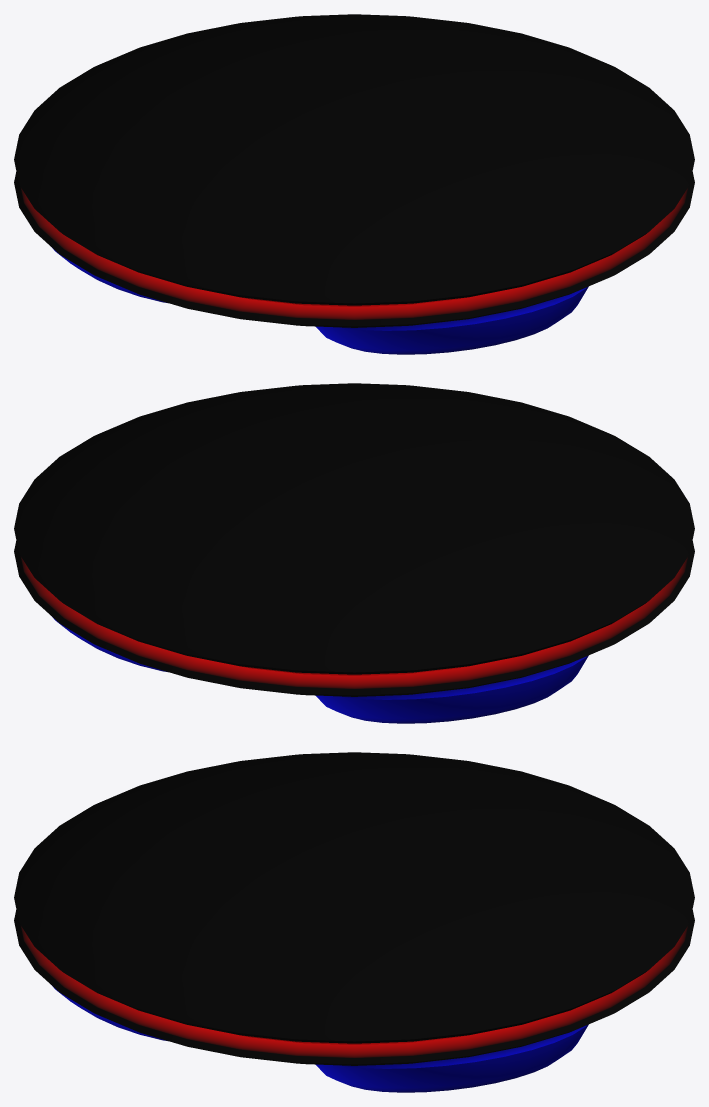
The model's file is hook.fbx.
The picture shows the model from 3 angles, top to bottom: view 1: azimuth 30°, elevation 25°; view 2: azimuth 150°, elevation 25°; view 3: azimuth 270°, elevation 25°; orthographic projection.
Parts seen in each view (by area): view 1: body; view 2: body; view 3: body.
Boxes of the visible parts, x1,y1,x2,y2 form: body: (14,14,694,354); body: (14,383,694,723); body: (14,752,694,1092).
Bounding box in the file's own units: 0.9535 × 0.2798 × 0.9535.
